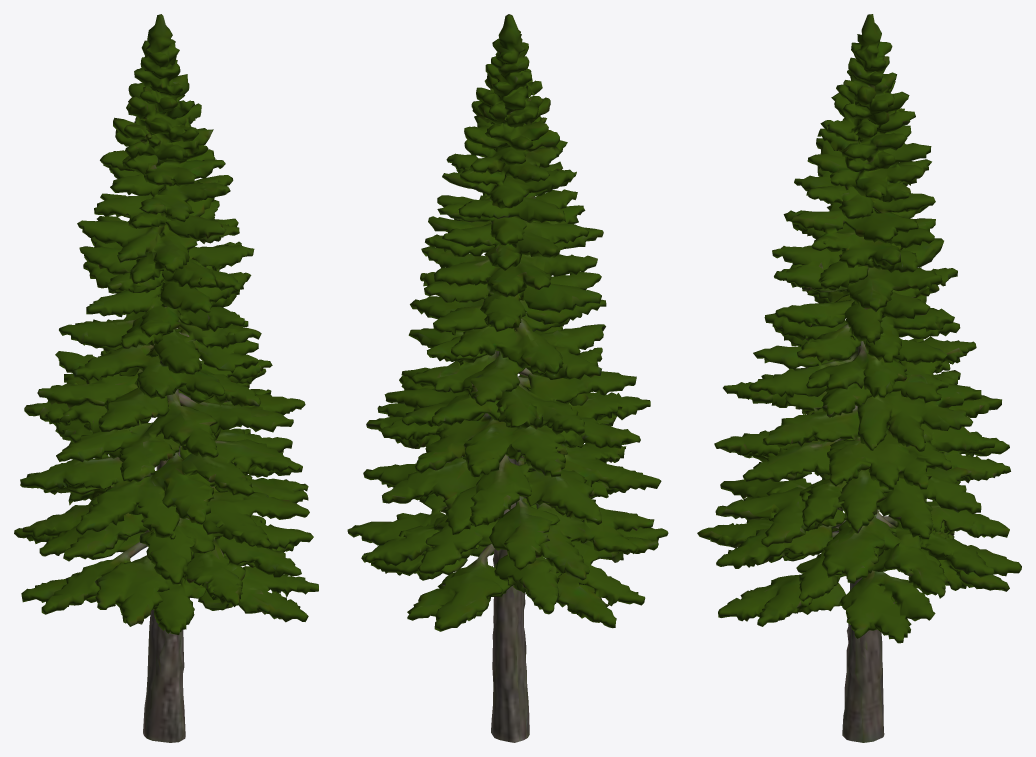
The model's file is tree_28_grand_fir.glb.
3 renders of one model, left to right at view 1: azimuth 30°, elevation 25°; view 2: azimuth 150°, elevation 25°; view 3: azimuth 270°, elevation 25°, orthographic.
Visible parts, largest first — view 1: geometry_0; view 2: geometry_0; view 3: geometry_0.
Boxes of the visible parts, x1=… form: geometry_0: x1=14, y1=14, x2=318, y2=742; geometry_0: x1=347, y1=14, x2=668, y2=742; geometry_0: x1=697, y1=14, x2=1021, y2=742.
Bounding box in the file's own units: 0.3849 × 1 × 0.4106.
1 material, 1 textured.
